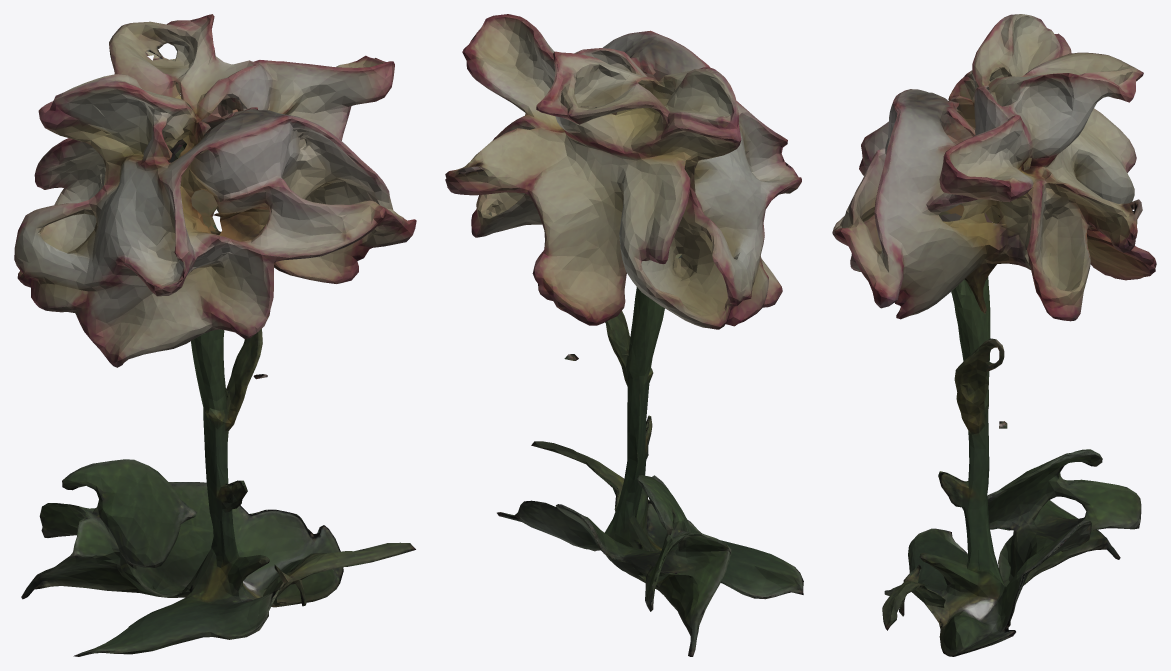
3 views of the same model, side by side, from view 1: azimuth 30°, elevation 25°; view 2: azimuth 150°, elevation 25°; view 3: azimuth 270°, elevation 25° (orthographic). The views are drawn at different scales.
Visible parts, largest first — view 1: world; view 2: world; view 3: world.
Part boxes in pixels (box(x1,y1,x2,y2)): world: box(14, 14, 416, 656); world: box(445, 14, 803, 656); world: box(832, 14, 1156, 656).
Size of the model in its own units: 0.5864 by 0.972 by 0.5035.
1 material, 1 textured.
